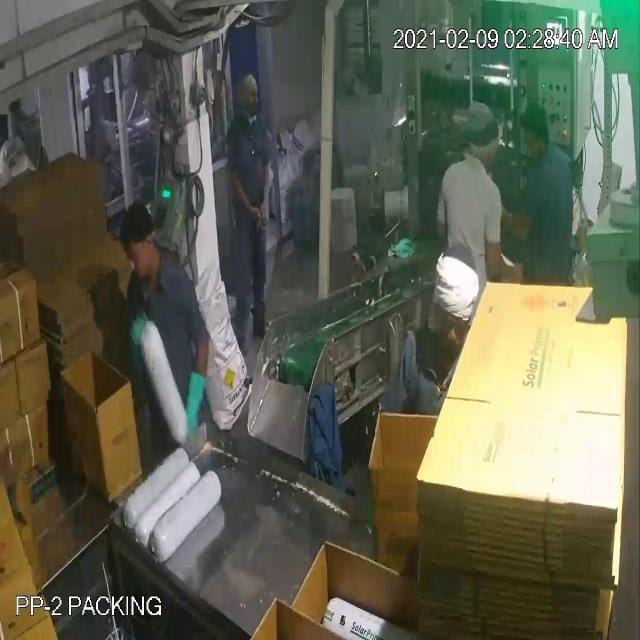Gloves: (22, 68, 265, 402)
